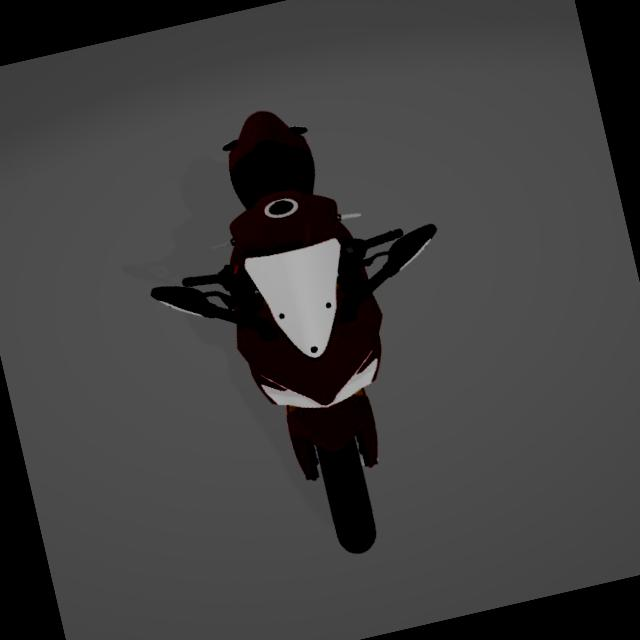Motobike: (101, 69, 518, 597)
